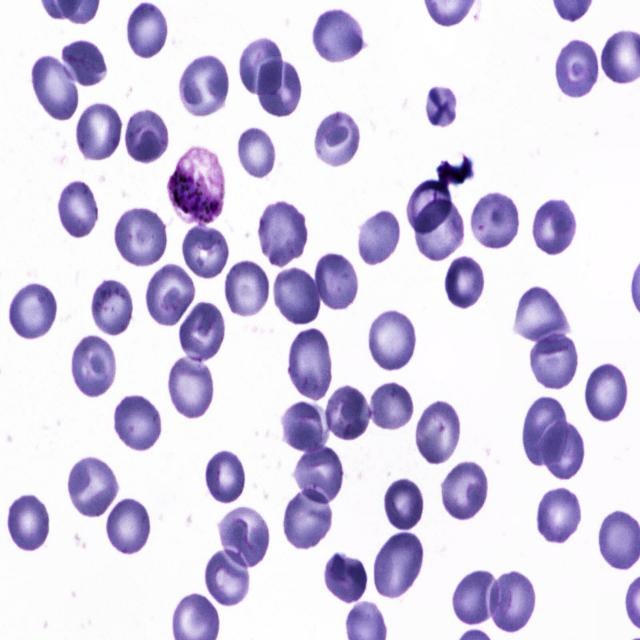red blood cell: (257, 195, 310, 268), (364, 307, 420, 375), (511, 283, 572, 343), (371, 533, 424, 602), (522, 393, 570, 469), (181, 51, 232, 121), (281, 488, 335, 553), (69, 457, 122, 523), (311, 6, 369, 66), (439, 458, 490, 526), (179, 298, 230, 364), (144, 265, 196, 329), (166, 353, 216, 419), (472, 190, 522, 256), (32, 54, 82, 120), (112, 392, 164, 455), (289, 328, 333, 402), (67, 333, 116, 399), (553, 36, 602, 102), (220, 507, 271, 570), (415, 198, 464, 263), (291, 444, 344, 504), (311, 107, 363, 168), (527, 330, 579, 391), (115, 209, 169, 267), (450, 567, 501, 628), (226, 256, 271, 323), (103, 494, 153, 554), (254, 57, 303, 118), (313, 250, 364, 308), (536, 419, 584, 480), (206, 549, 252, 612), (273, 266, 322, 325), (8, 488, 53, 552), (491, 569, 536, 633), (8, 283, 59, 339), (325, 387, 376, 443), (76, 102, 122, 164), (181, 224, 231, 281), (406, 179, 455, 237), (532, 197, 580, 256), (90, 278, 135, 339), (126, 5, 175, 61), (322, 550, 370, 607), (584, 357, 626, 422), (356, 209, 402, 268), (534, 484, 580, 542), (240, 38, 286, 96), (416, 399, 458, 462), (126, 108, 171, 166), (201, 447, 247, 502), (60, 184, 105, 240), (285, 403, 336, 450), (368, 384, 416, 433), (60, 40, 109, 88), (384, 475, 426, 529), (446, 254, 482, 314), (238, 127, 277, 180), (420, 84, 459, 129)
schizont: (164, 140, 228, 223)
